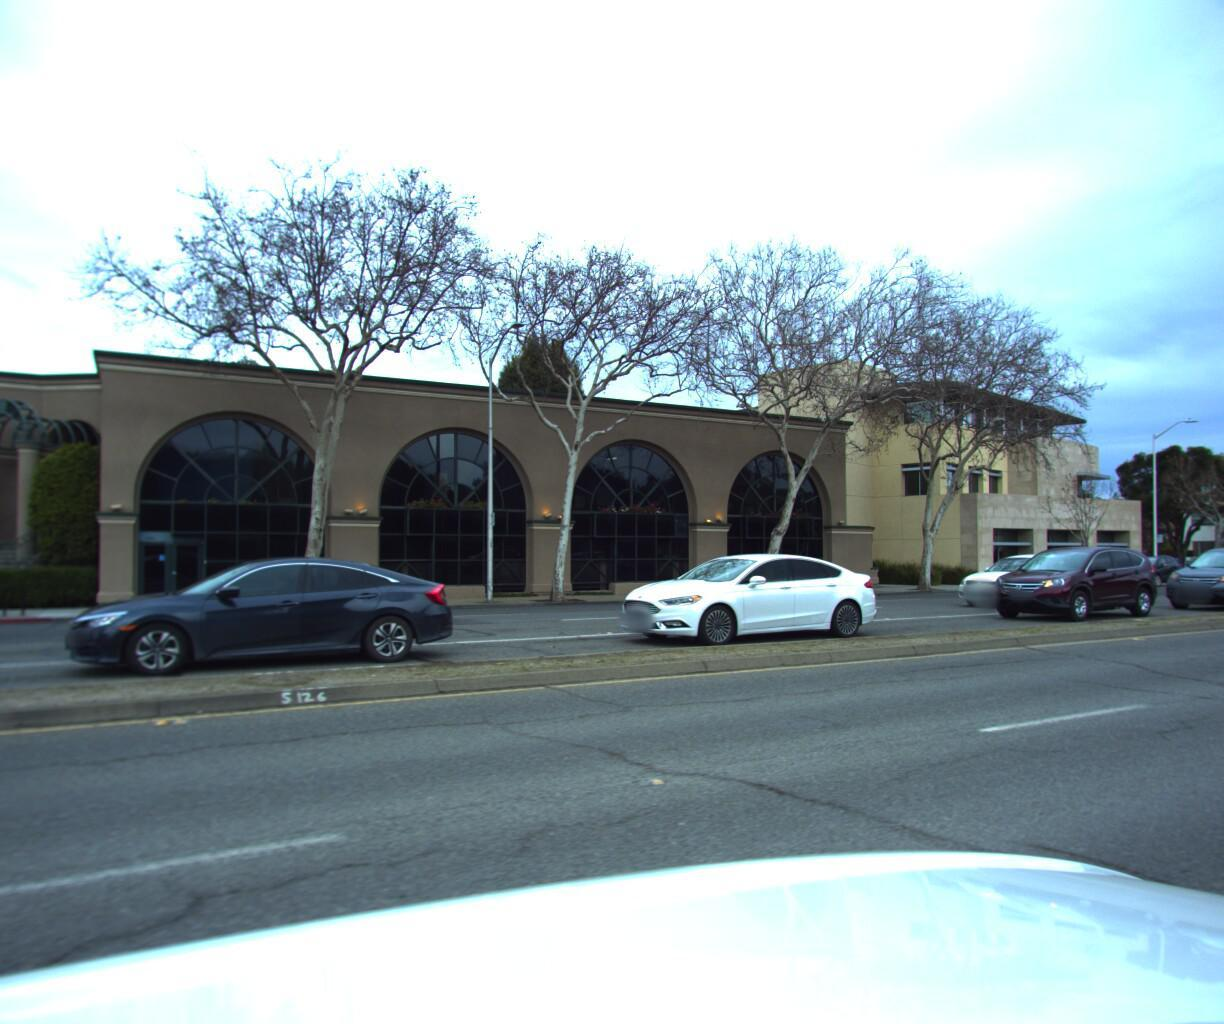car: (58, 553, 469, 689), (600, 547, 894, 651), (977, 539, 1166, 620), (948, 549, 1103, 606), (1150, 539, 1224, 609)
